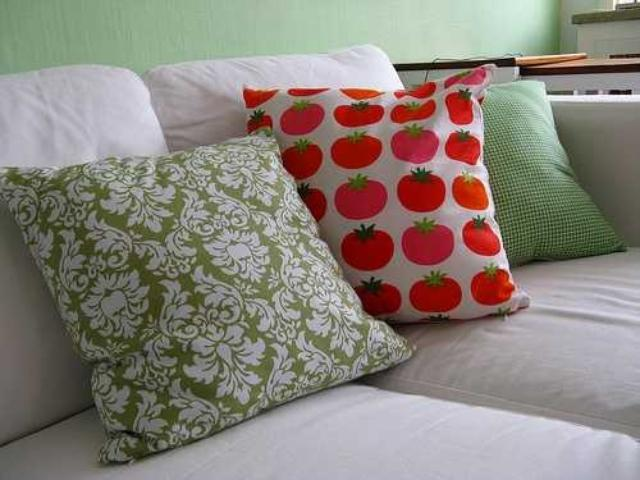pillow: (1, 128, 413, 464), (242, 62, 530, 324)
